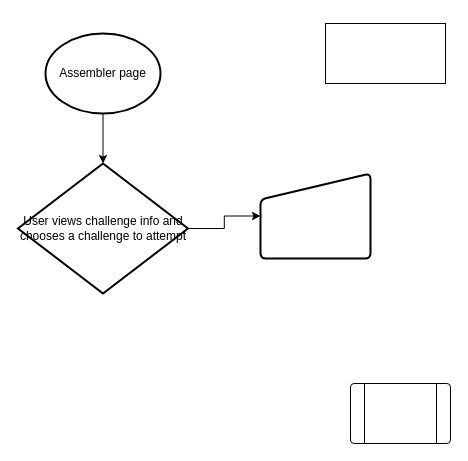
This 468x461 diagram has some shape labels left out. Each missing label, with the centre of its shape:
"General Program Flow" belongs at point (385, 53).
"Uses IDE to make solution" belongs at point (315, 215).
